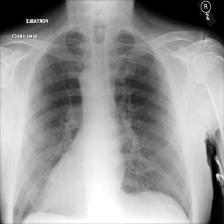normal: (9, 23, 198, 224)
